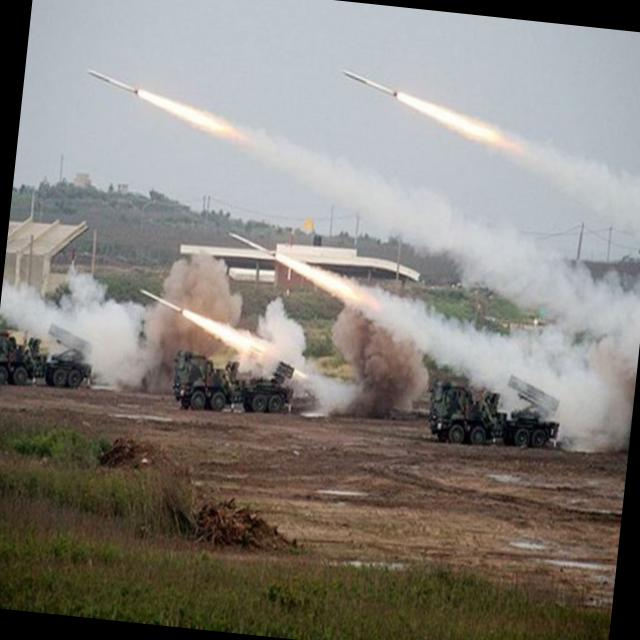rocket: (81, 62, 221, 148), (338, 59, 477, 145)
